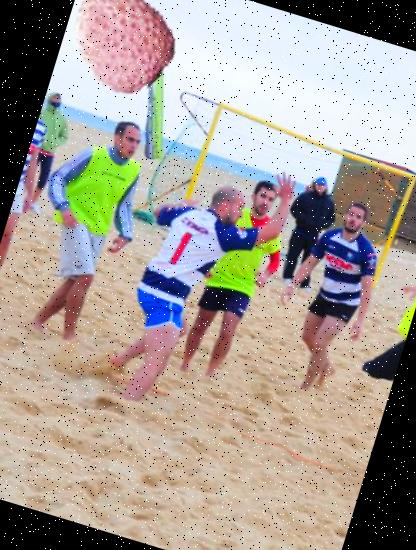Lychee: (53, 0, 190, 107)
